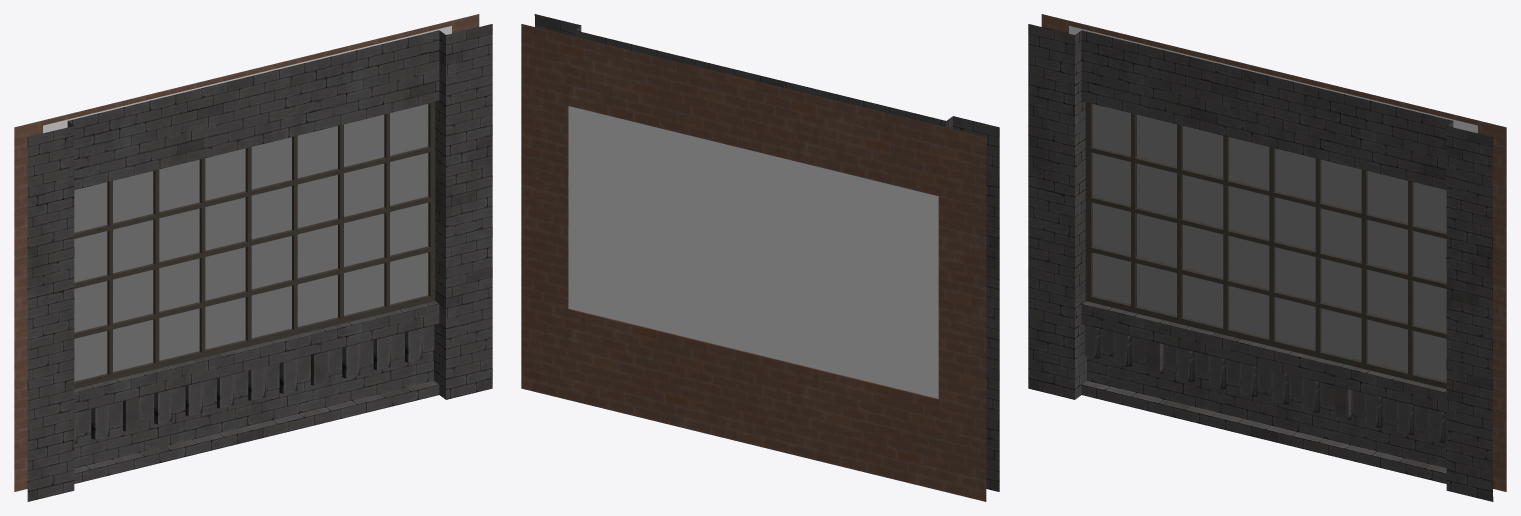
File: WornBrick_WindowLarge.gltf
The picture shows the model from 3 angles, left to right: view 1: azimuth 30°, elevation 25°; view 2: azimuth 150°, elevation 25°; view 3: azimuth 330°, elevation 25°; orthographic projection.
Parts seen in each view (by area): view 1: WornBrick_WindowLarge; view 2: WornBrick_WindowLarge; view 3: WornBrick_WindowLarge.
Boxes of the visible parts, x1=… form: WornBrick_WindowLarge: x1=14, y1=14, x2=492, y2=501; WornBrick_WindowLarge: x1=521, y1=14, x2=999, y2=501; WornBrick_WindowLarge: x1=1028, y1=14, x2=1506, y2=501.
Bounding box in the file's own units: 4 × 3 × 0.2.
5 materials, 3 textured.
